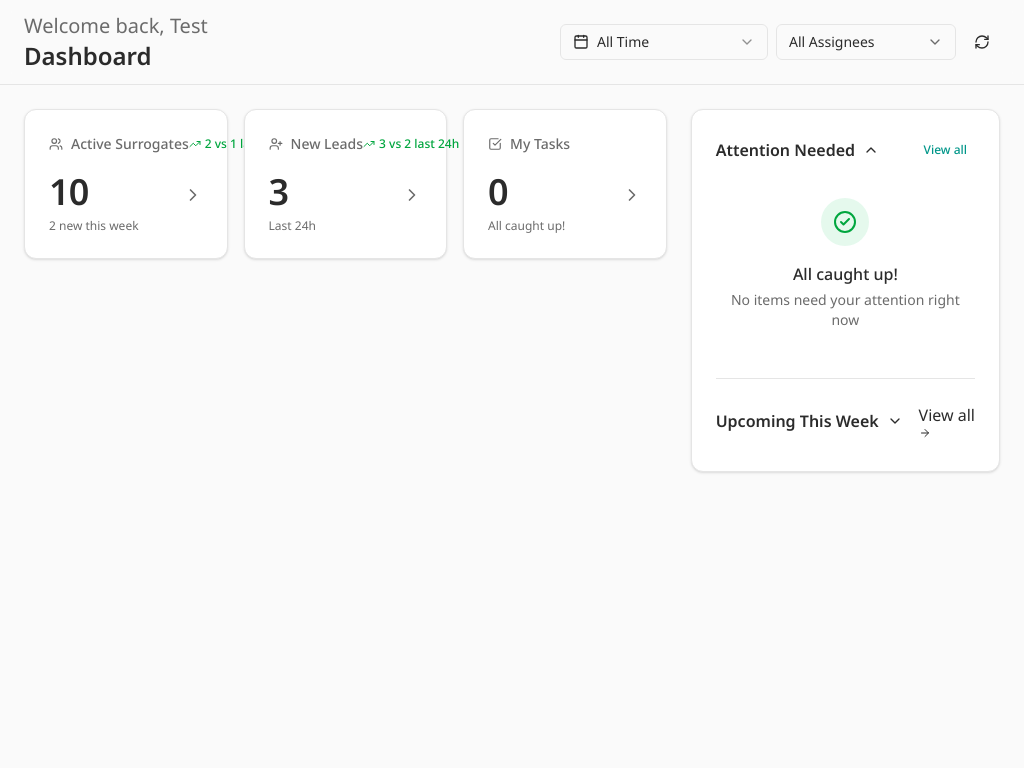
Test: DashboardPage › shows the donor number for donor-linked upcoming tasks
Click the button "Upcoming This Week": [809, 421] box [716,409,903,433]
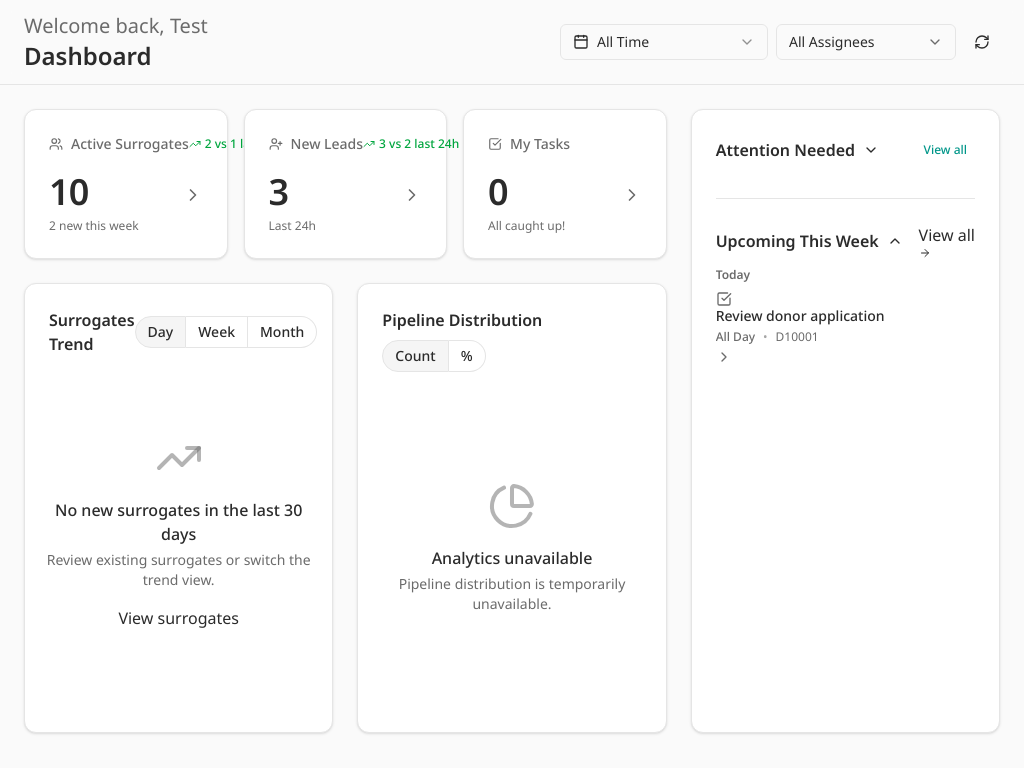
Expected: the text "D10001" is shown, [776,328,819,344]
